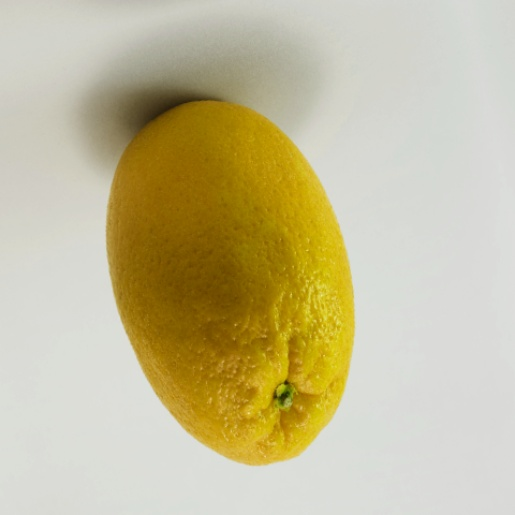orange: (7, 23, 435, 515)
